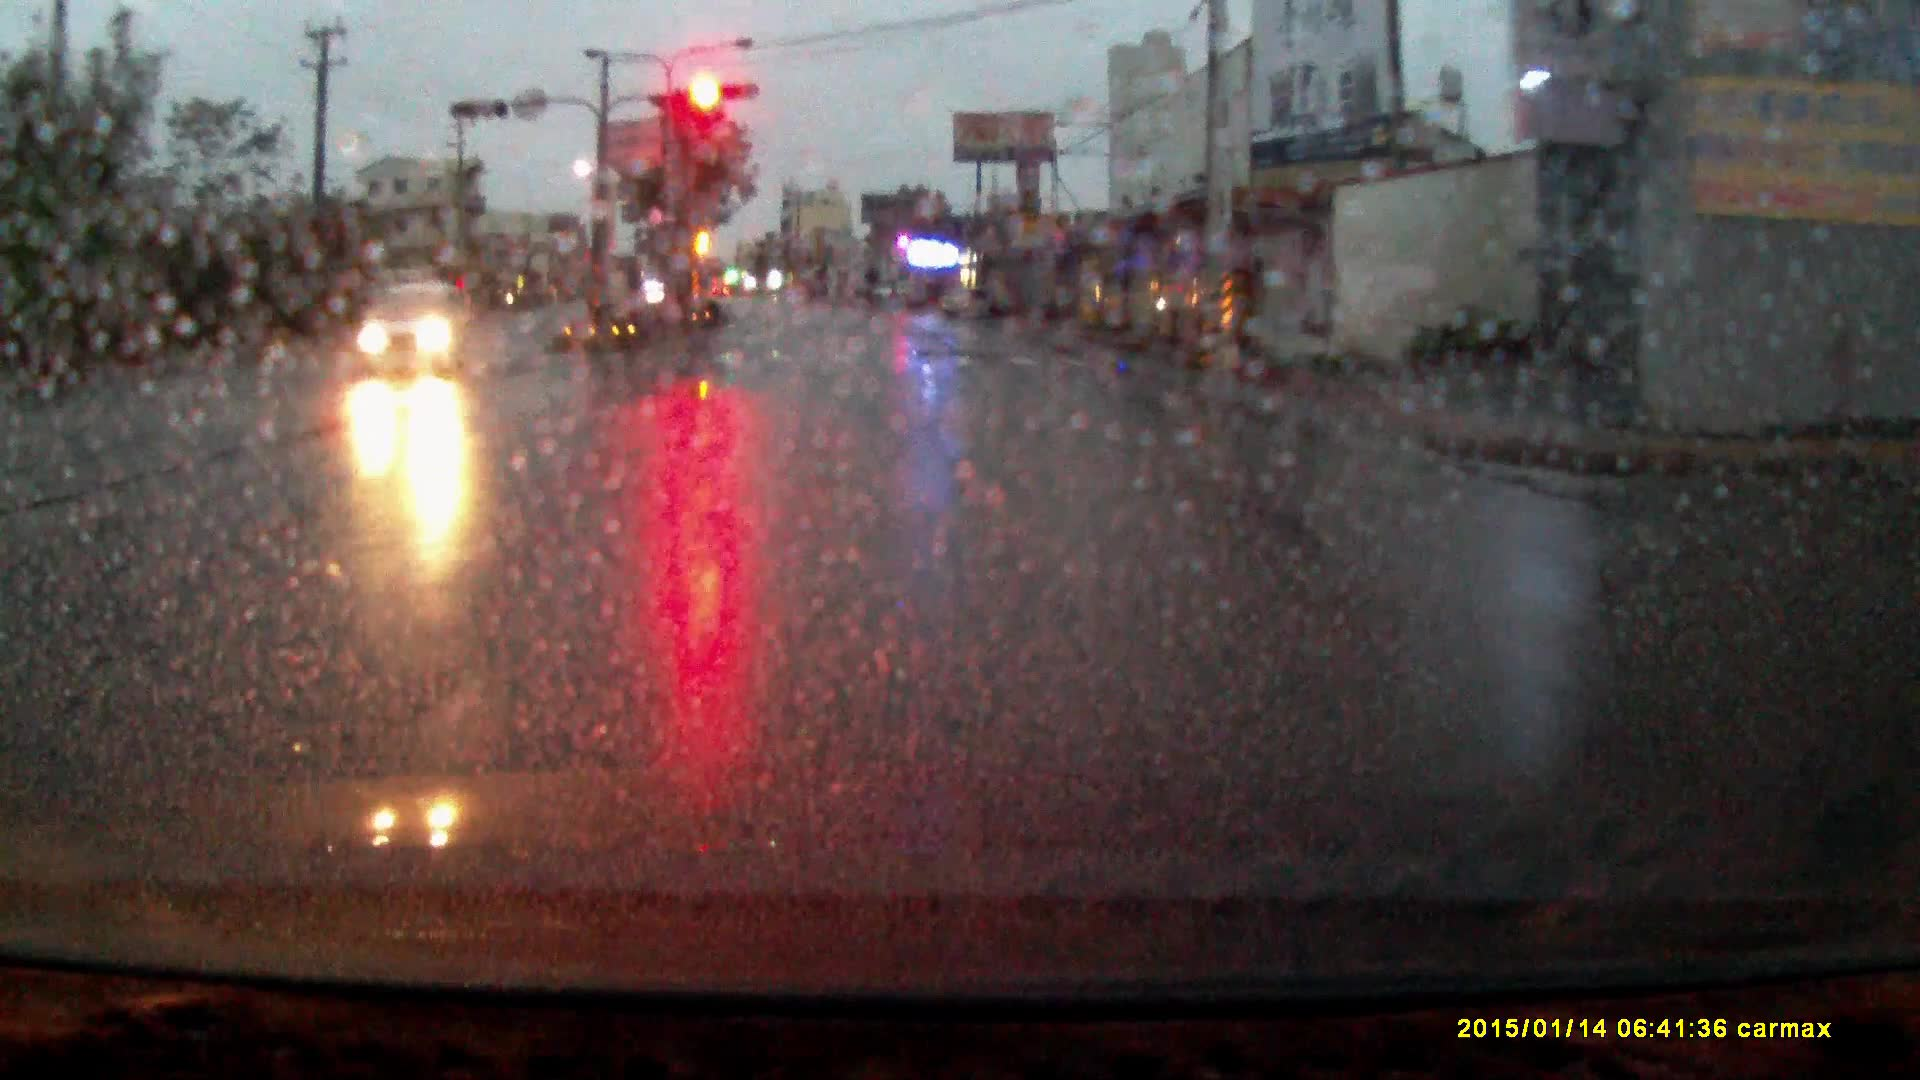vehicle: (360, 287, 471, 380)
